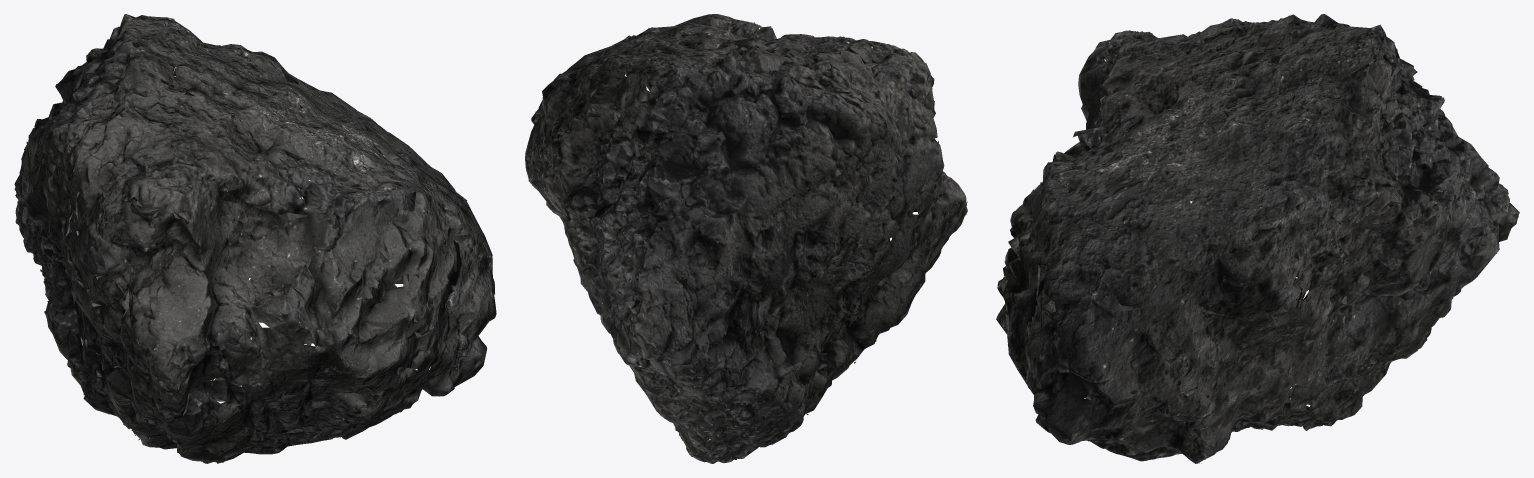
File: apollo_lunar_sample_701750.glb
3 renders of one model, left to right at view 1: azimuth 30°, elevation 25°; view 2: azimuth 150°, elevation 25°; view 3: azimuth 270°, elevation 25°, orthographic. The views are drawn at different scales.
Parts seen in each view (by area): view 1: Object_2, Object_3, Object_4; view 2: Object_3, Object_2, Object_4; view 3: Object_2, Object_3, Object_4.
Part boxes in pixels (box(x1,y1,x2,y2)): Object_2: box(60, 42, 496, 463); Object_3: box(14, 14, 429, 449); Object_4: box(47, 114, 490, 463); Object_3: box(528, 23, 967, 463); Object_2: box(525, 14, 967, 458); Object_4: box(534, 28, 908, 458); Object_2: box(996, 18, 1398, 463); Object_3: box(1011, 14, 1519, 457); Object_4: box(997, 166, 1358, 463).
Size of the model in its own units: 0.0635 by 0.0643 by 0.0741.
Materials: 1 (1 with a texture image).
